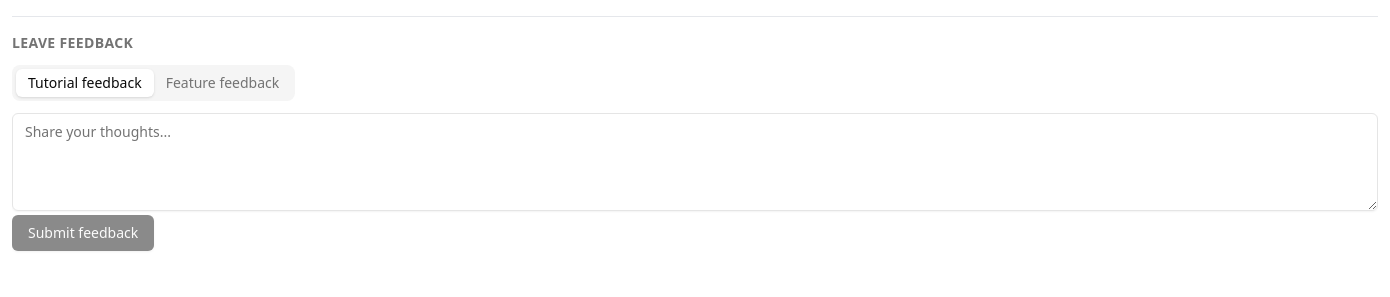
Test: FeedbackWidget › character counter shows "X/500" when comment.length > 0; not shown when empty
Check: the text "/500" is not shown
In the text box: (695, 162) [12, 113, 1378, 211], type "hello"
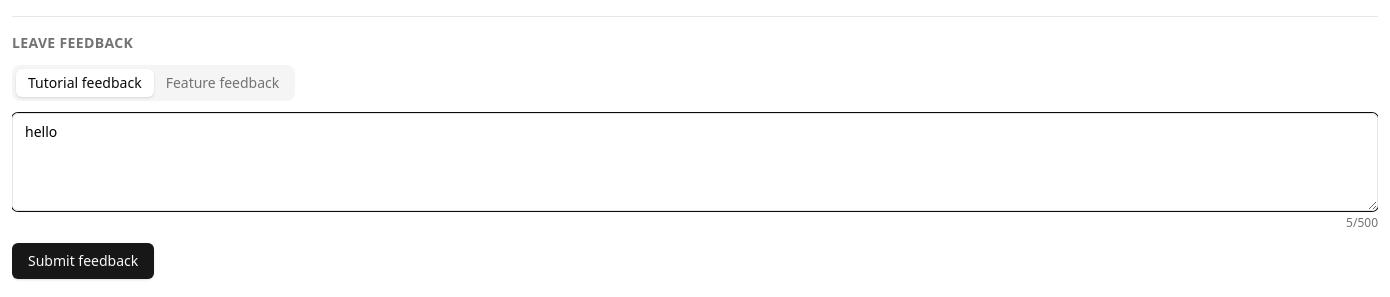
Check: the text "5/500" is shown, box [1346, 214, 1378, 231]
